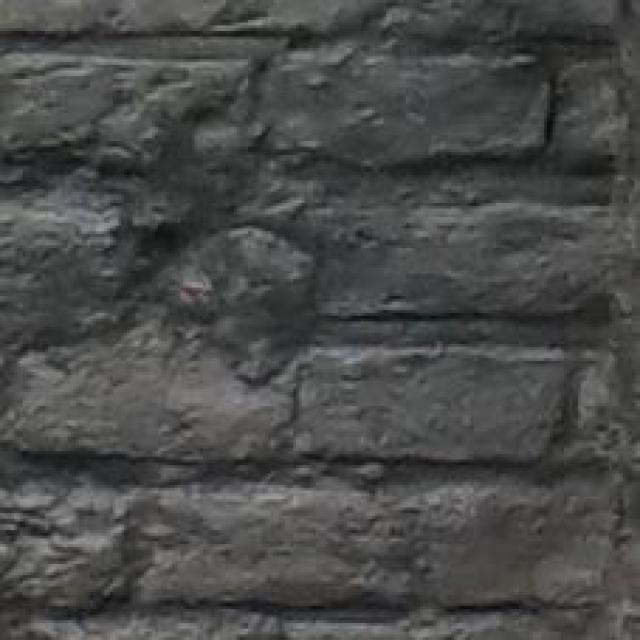Crack: (21, 98, 354, 430)
